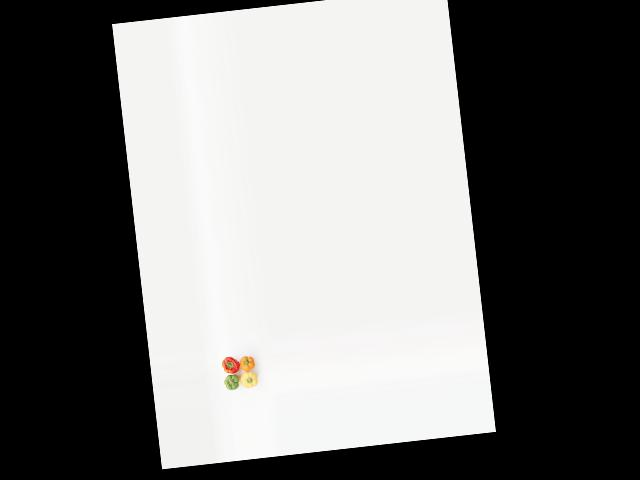bell_pepper: (222, 369, 242, 395)
